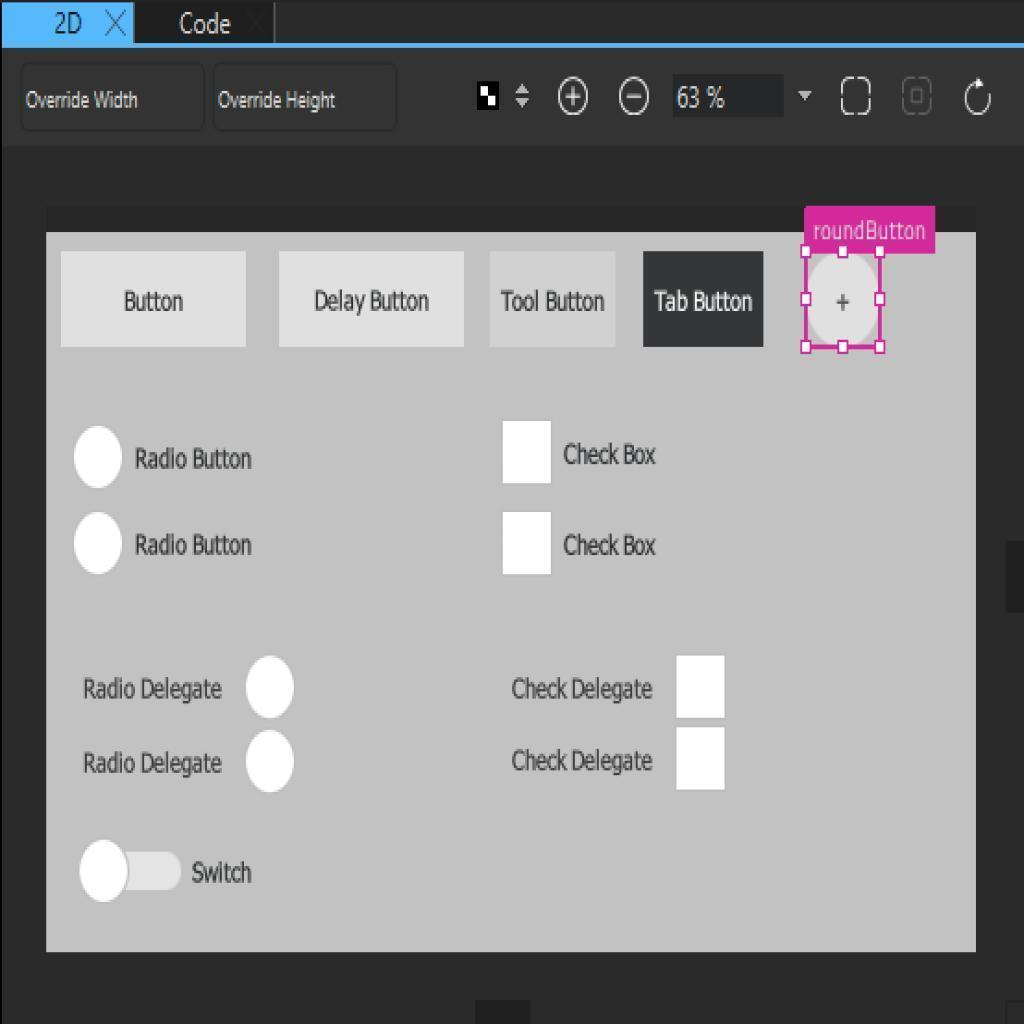button: (278, 250, 465, 346), (60, 251, 245, 345), (490, 250, 615, 345), (644, 251, 766, 346)
checkbox: (79, 839, 184, 905), (674, 727, 725, 791), (500, 512, 551, 575), (502, 420, 552, 483), (676, 656, 724, 720)
label: (82, 745, 226, 782), (82, 672, 222, 708), (511, 673, 656, 705), (136, 443, 257, 479), (508, 745, 653, 775), (136, 530, 257, 564), (558, 529, 661, 560), (563, 440, 659, 470), (191, 859, 248, 887)
radio: (70, 422, 121, 492), (72, 508, 125, 575), (245, 654, 296, 721), (244, 730, 296, 794)
